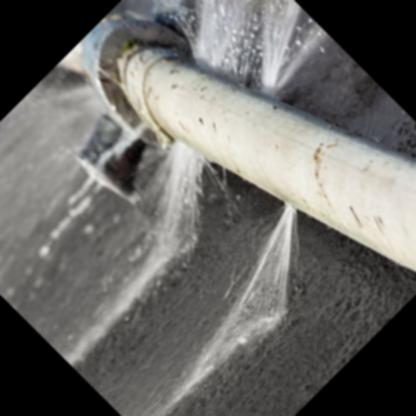burst: (198, 40, 296, 112), (252, 188, 345, 239), (160, 131, 224, 190)
